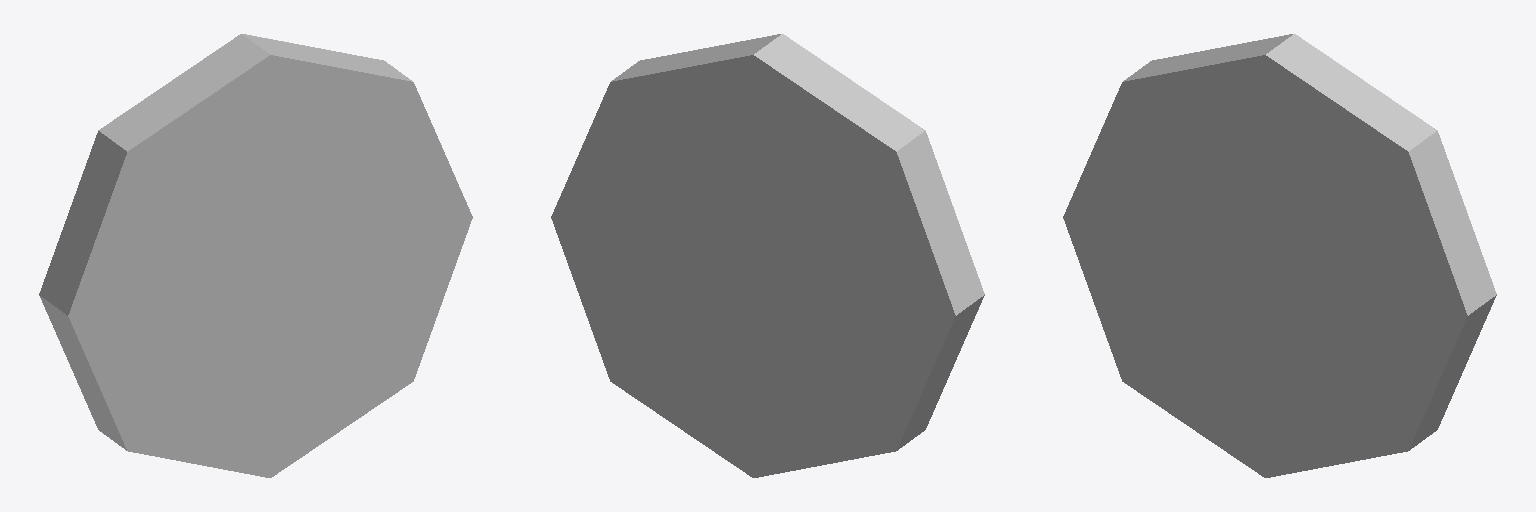
Rendered from police.obj.
3 renders of one model, left to right at view 1: azimuth 30°, elevation 25°; view 2: azimuth 150°, elevation 25°; view 3: azimuth 330°, elevation 25°, orthographic.
Visible parts, largest first — view 1: my_wheel_Material.001; view 2: my_wheel_Material.001; view 3: my_wheel_Material.001.
Part boxes in pixels (x1,y1,x2,y2): my_wheel_Material.001: (39, 34, 472, 477); my_wheel_Material.001: (551, 34, 984, 477); my_wheel_Material.001: (1063, 34, 1496, 477).
Size of the model in its own units: 0.7267 by 0.7267 by 0.0908.